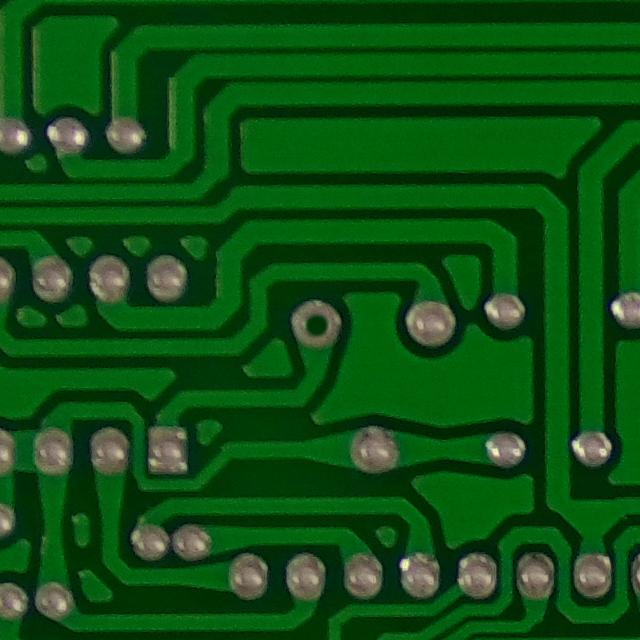missing_hole: (286, 291, 349, 358)
